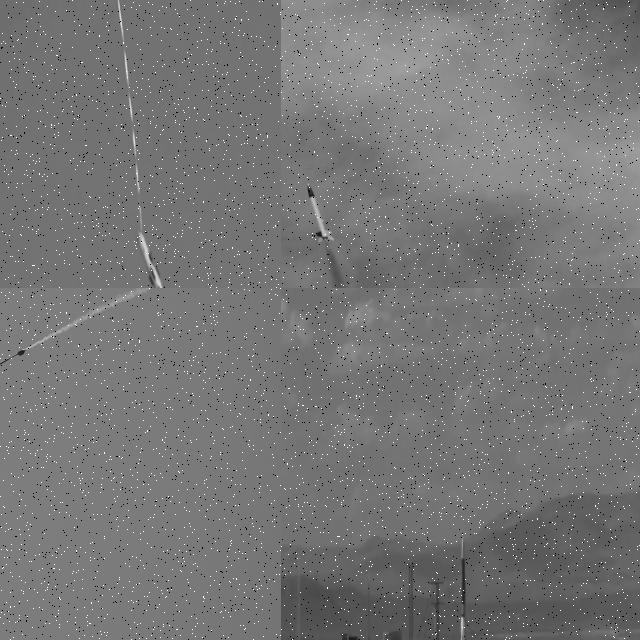Rocket: (136, 227, 198, 288), (306, 182, 335, 244), (457, 536, 468, 640), (0, 348, 27, 365)
